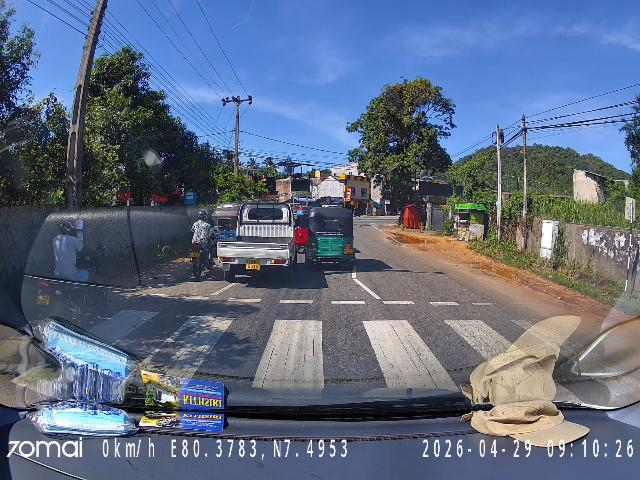illegal overtaking: (23, 221, 120, 329)
number plate: (36, 293, 52, 308)
